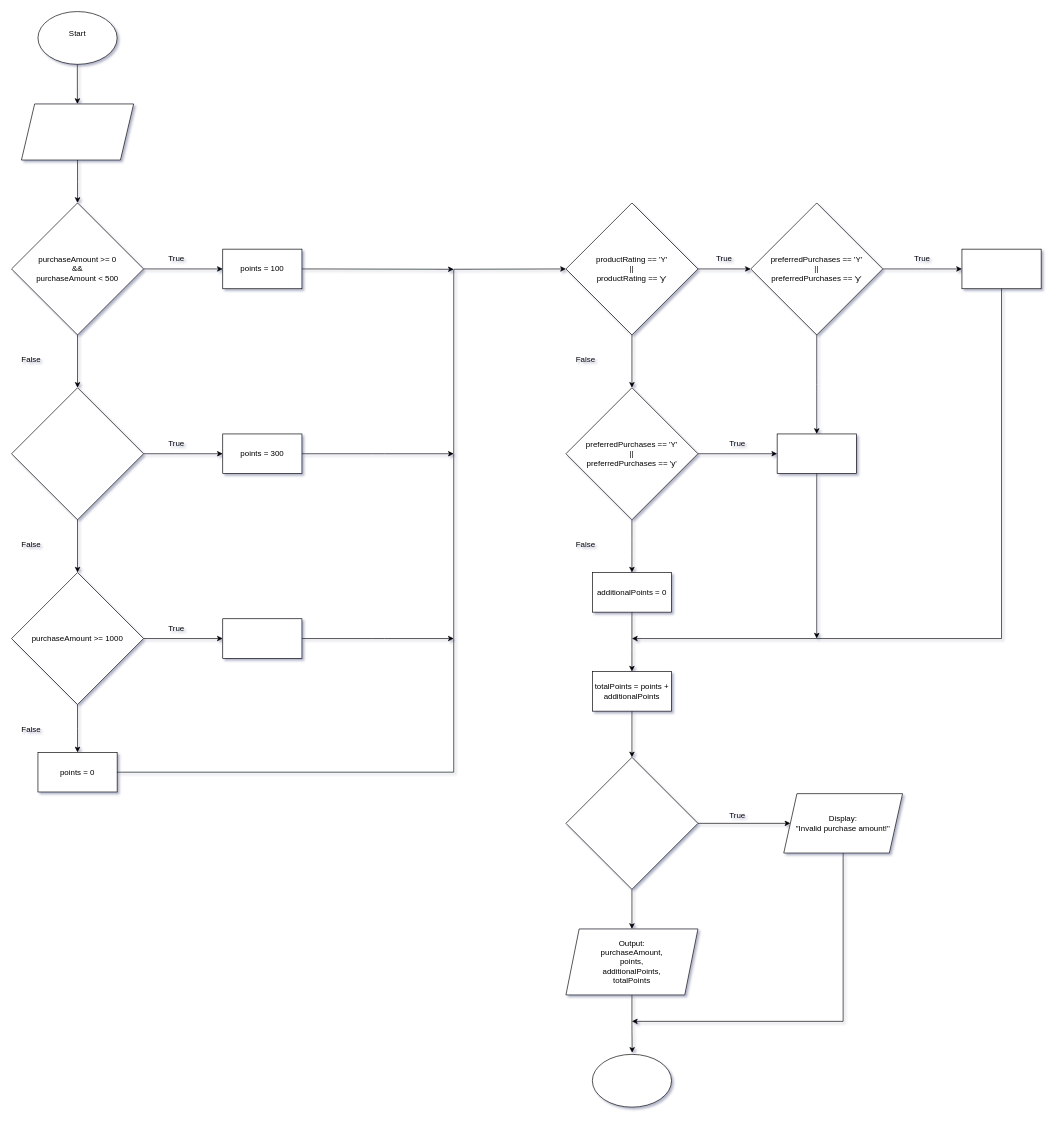
Some shapes in this 1057 by 1123 pixel diagram are drawn without their labels. Each missing label, with the centre of its shape:
additionalPoints = 100: (1001,268)
additionalPoints = 50: (816,453)
Input: purchaseAmount, productRating, preferredPurchases: (77,131)
points = 500: (262,638)
purchaseAmount <= 0: (631,823)
purchaseAmount >= 500 && purchaseAmount < 1000: (77,453)
Stop: (632,1080)
